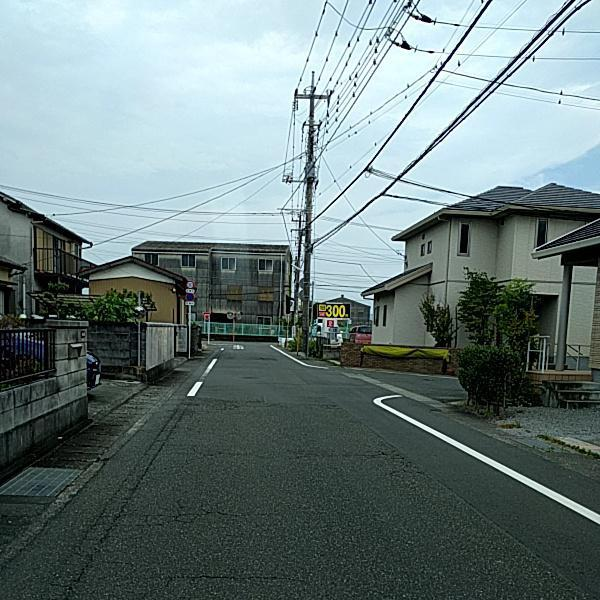D10: (142, 496, 284, 526), (153, 565, 320, 587), (198, 445, 277, 462)
D20: (347, 442, 427, 474)
D44: (58, 400, 191, 588)
